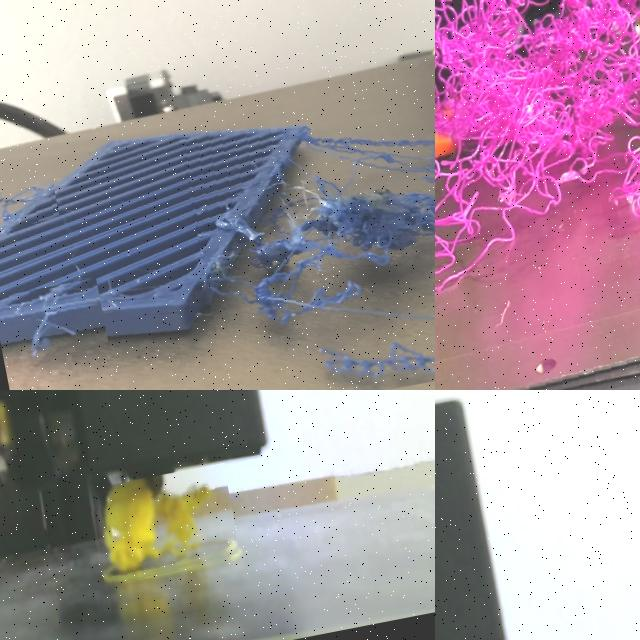spaghetti: (176, 42, 435, 390), (435, 0, 640, 390), (103, 476, 239, 581), (0, 278, 110, 371), (0, 167, 61, 232)
